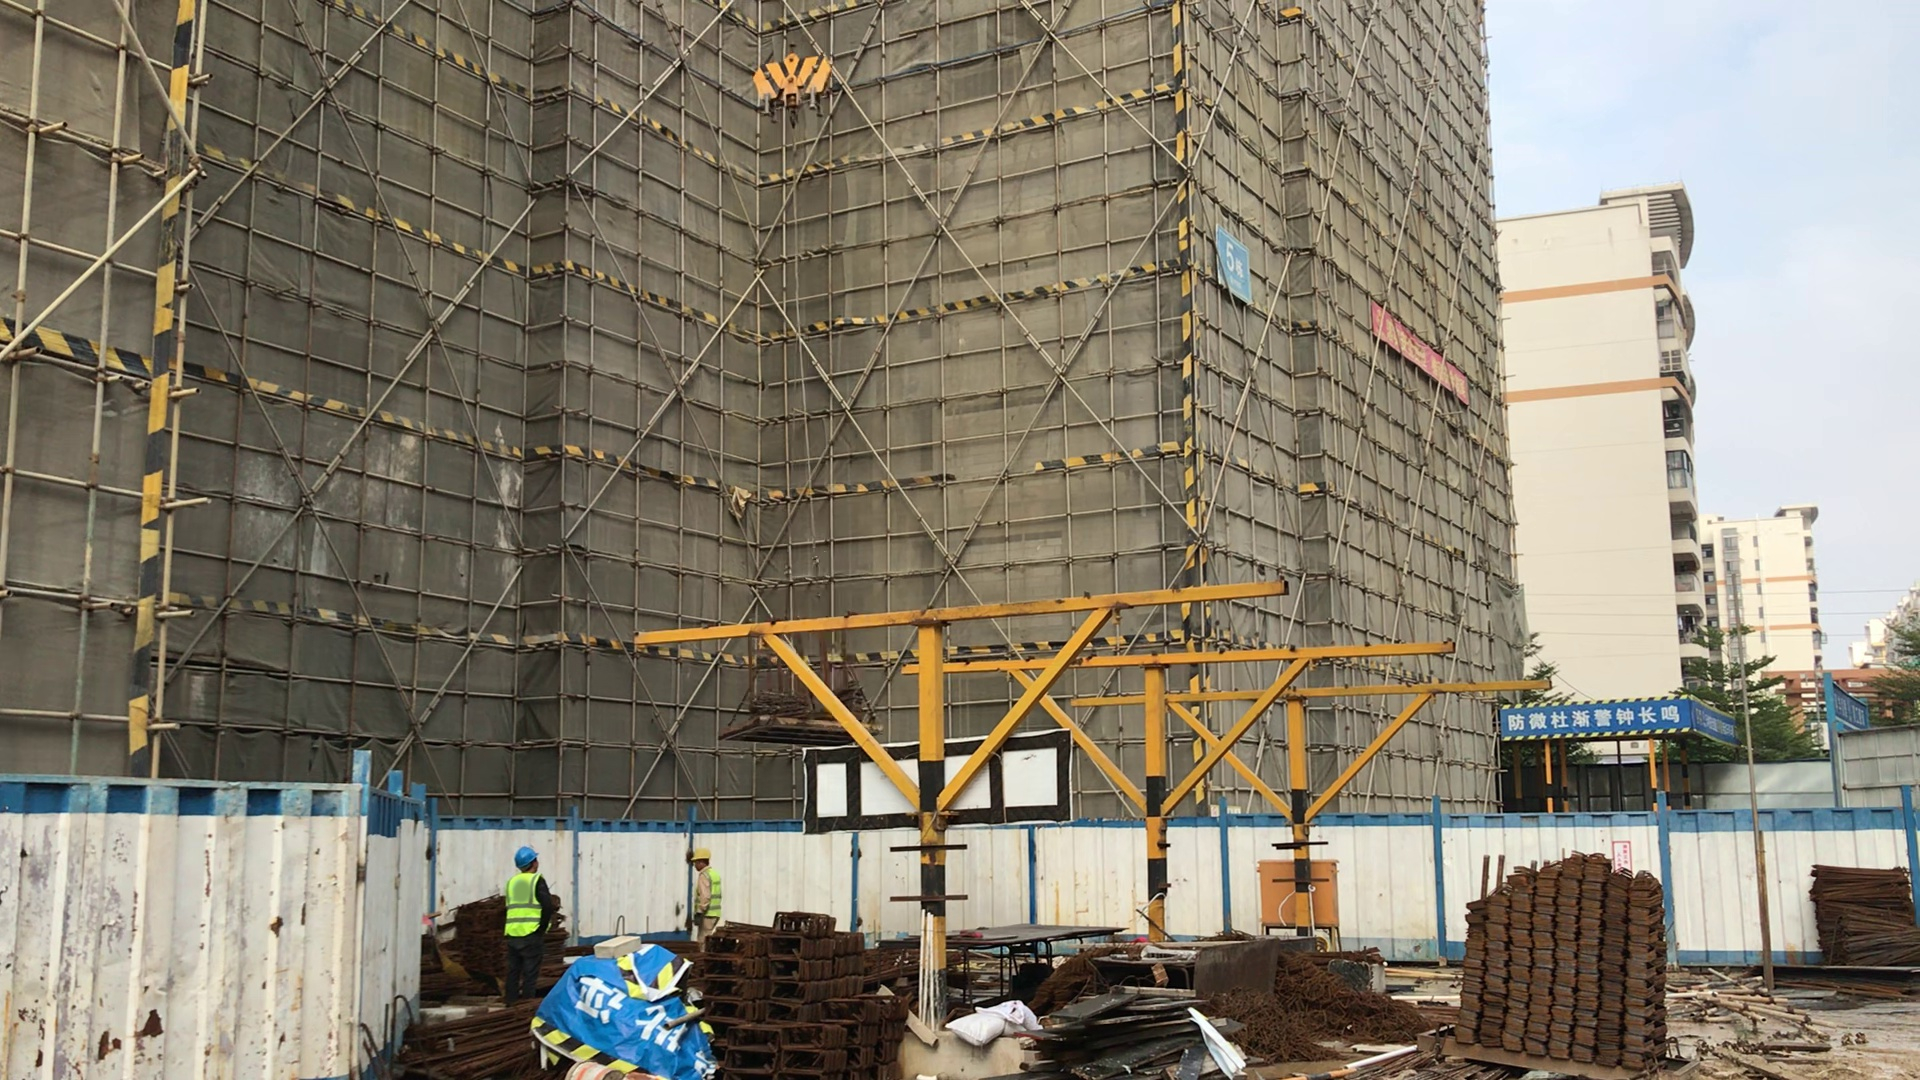ebox: (1252, 856, 1291, 939), (1314, 853, 1345, 943)
helmet: (513, 846, 539, 869), (690, 847, 713, 862)
hook: (744, 45, 836, 132)
person: (493, 843, 560, 1005), (680, 845, 726, 934)
rebar: (377, 1013, 533, 1080)
slogan: (1373, 301, 1470, 409), (1504, 697, 1745, 737), (1215, 235, 1251, 305), (1833, 690, 1867, 729)
vest: (504, 873, 546, 937), (692, 869, 722, 918)
